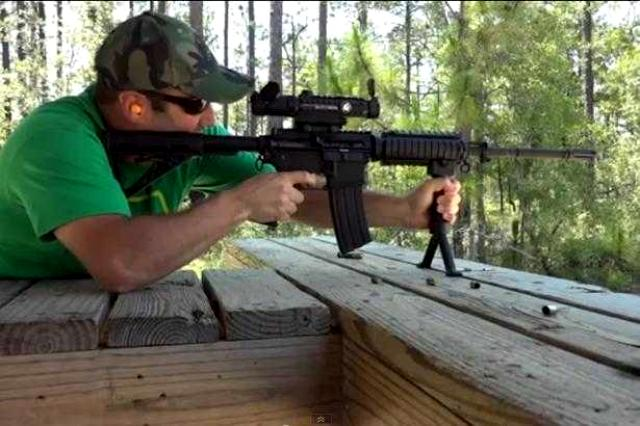rifle: (70, 85, 620, 280)
